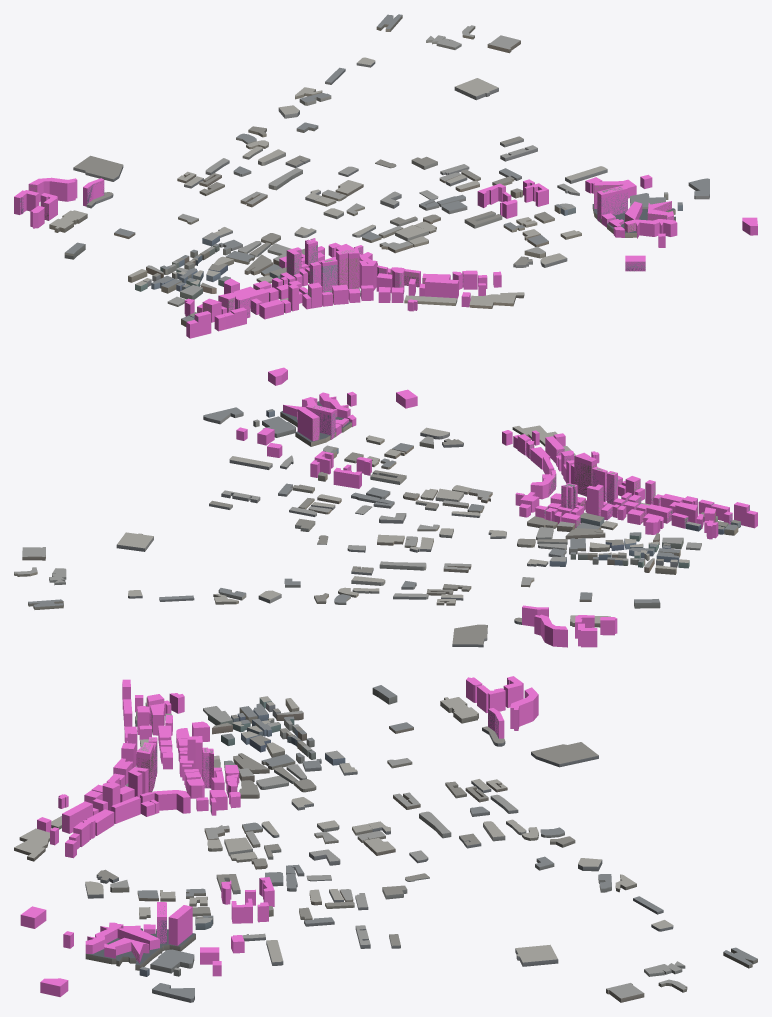
The model's file is bld_14_13.fbx.
The picture shows the model from 3 angles, top to bottom: view 1: azimuth 30°, elevation 25°; view 2: azimuth 150°, elevation 25°; view 3: azimuth 270°, elevation 25°; orthographic projection. The views are drawn at different scales.
Parts seen in each view (by area): view 1: bld_14_13_LOD0, bld_14_13_COL; view 2: bld_14_13_LOD0, bld_14_13_COL; view 3: bld_14_13_LOD0, bld_14_13_COL.
Part boxes in pixels (x1,y1,x2,y2): bld_14_13_LOD0: [20, 14, 709, 326]; bld_14_13_COL: [14, 174, 757, 338]; bld_14_13_LOD0: [14, 401, 749, 647]; bld_14_13_COL: [236, 367, 757, 647]; bld_14_13_LOD0: [14, 680, 757, 1002]; bld_14_13_COL: [20, 676, 538, 996].
Size of what is drawn, in the model's own units: 2072 by 135 by 2090.
